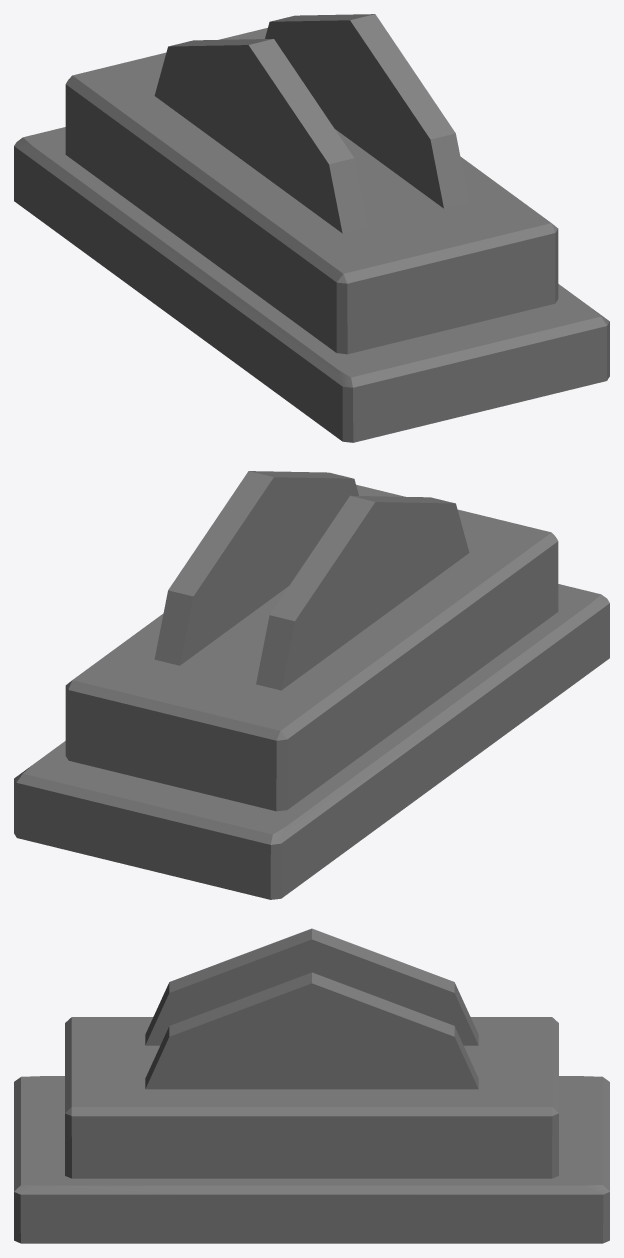
Rendered from BasePalanca.fbx.
The picture shows the model from 3 angles, top to bottom: view 1: azimuth 30°, elevation 25°; view 2: azimuth 150°, elevation 25°; view 3: azimuth 270°, elevation 25°; orthographic projection. The views are drawn at different scales.
Parts seen in each view (by area): view 1: BasePalanca; view 2: BasePalanca; view 3: BasePalanca.
Boxes of the visible parts, x1,y1,x2,y2 form: BasePalanca: (14, 14, 609, 442); BasePalanca: (14, 471, 609, 899); BasePalanca: (14, 928, 609, 1243).
Size of the model in its own units: 14.27 by 13.24 by 31.11.
